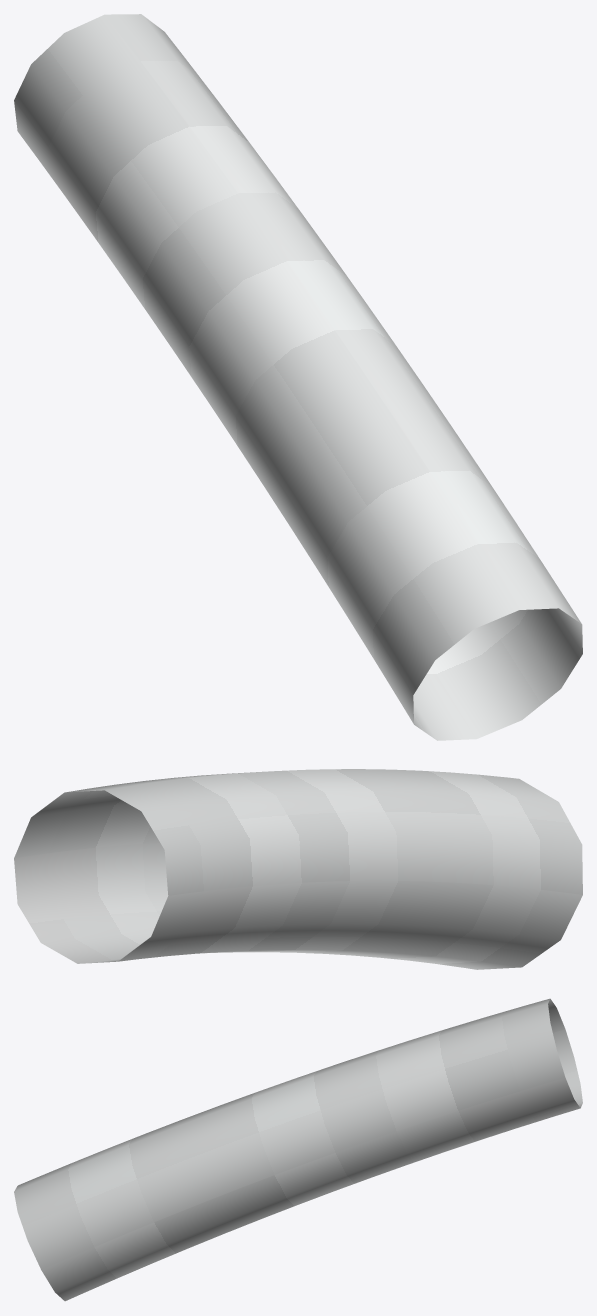
File: luminairearm_caltrans10ft_c2.obj
3 views of the same model, one above another, from view 1: azimuth 30°, elevation 25°; view 2: azimuth 150°, elevation 25°; view 3: azimuth 270°, elevation 25° (orthographic). The views are drawn at different scales.
Visible parts, largest first — view 1: luminairearm_caltrans10ft_c2; view 2: luminairearm_caltrans10ft_c2; view 3: luminairearm_caltrans10ft_c2.
Part boxes in pixels (x1,y1,x2,y2): luminairearm_caltrans10ft_c2: (14, 14, 582, 740); luminairearm_caltrans10ft_c2: (14, 769, 582, 969); luminairearm_caltrans10ft_c2: (14, 998, 582, 1301).
Size of the model in its own units: 0.2406 by 0.6127 by 1.09.
